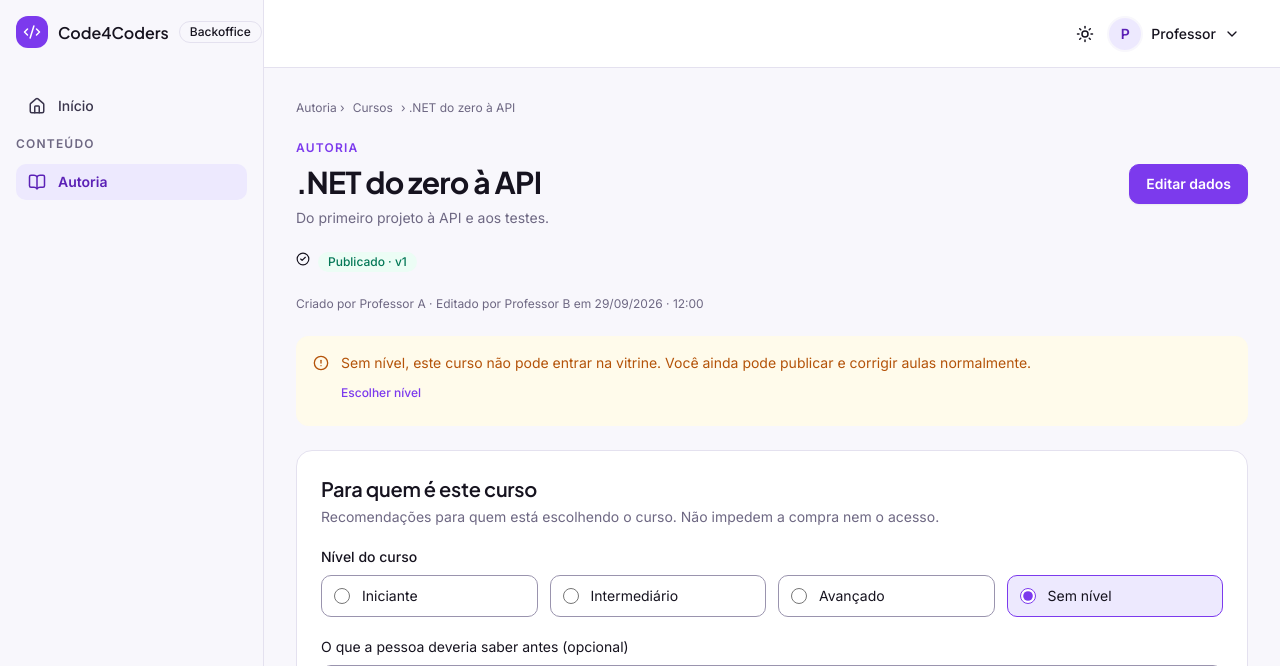
Test: authoring course level › announces current version without level, focuses the field and explains draft only level
The image size is (1280, 666).
Click the button "Escolher nível" at (381, 393), box [341,377,421,409]
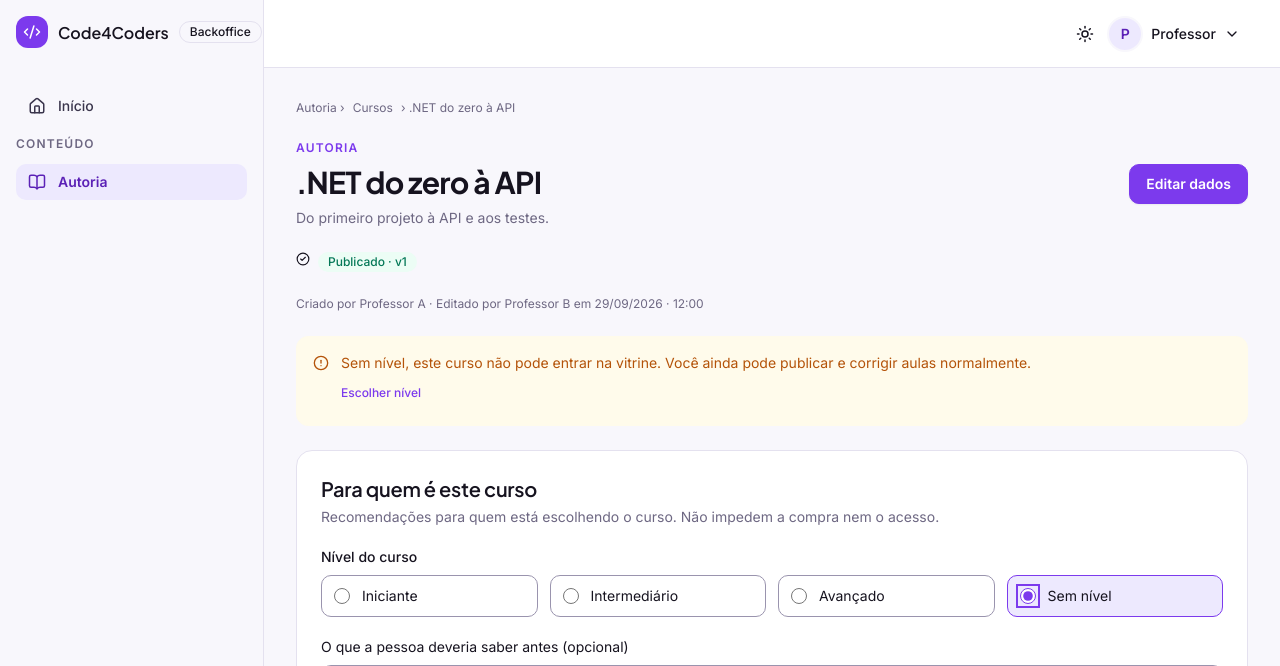
Click the radio button labelled "Iniciante" at (342, 596), box [334,588,350,604]
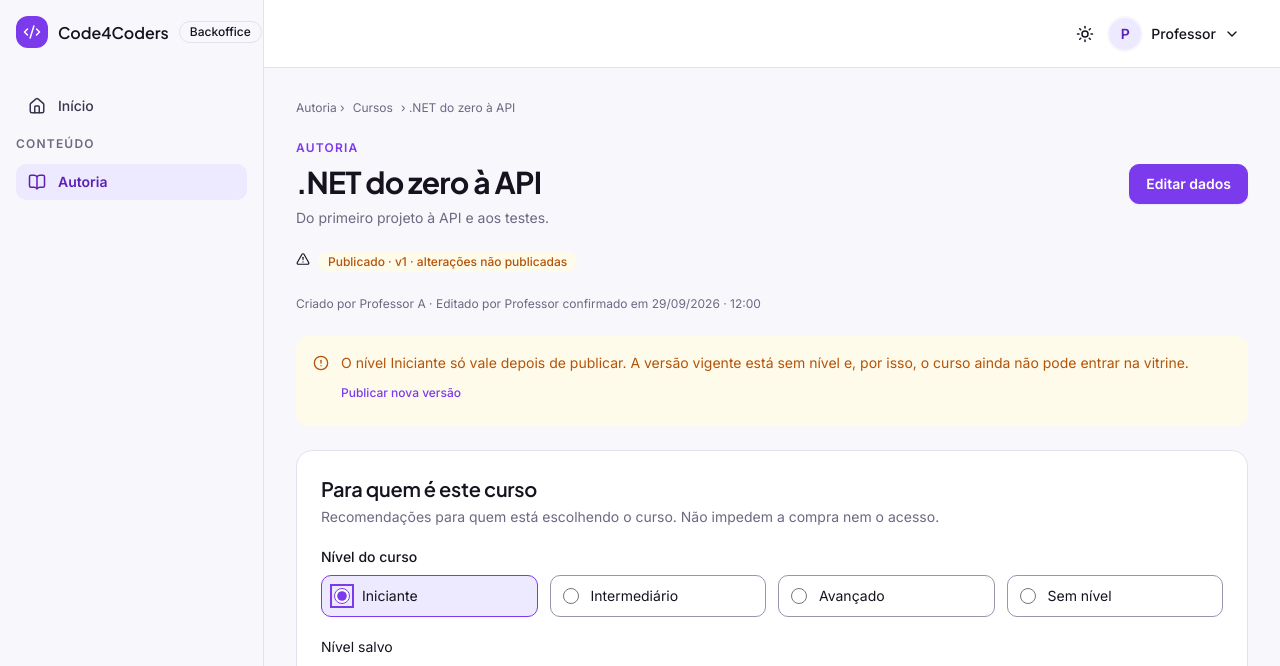
Check: the text "Publicado · v1 · alterações não publicadas" is shown, box [318,252,577,272]
